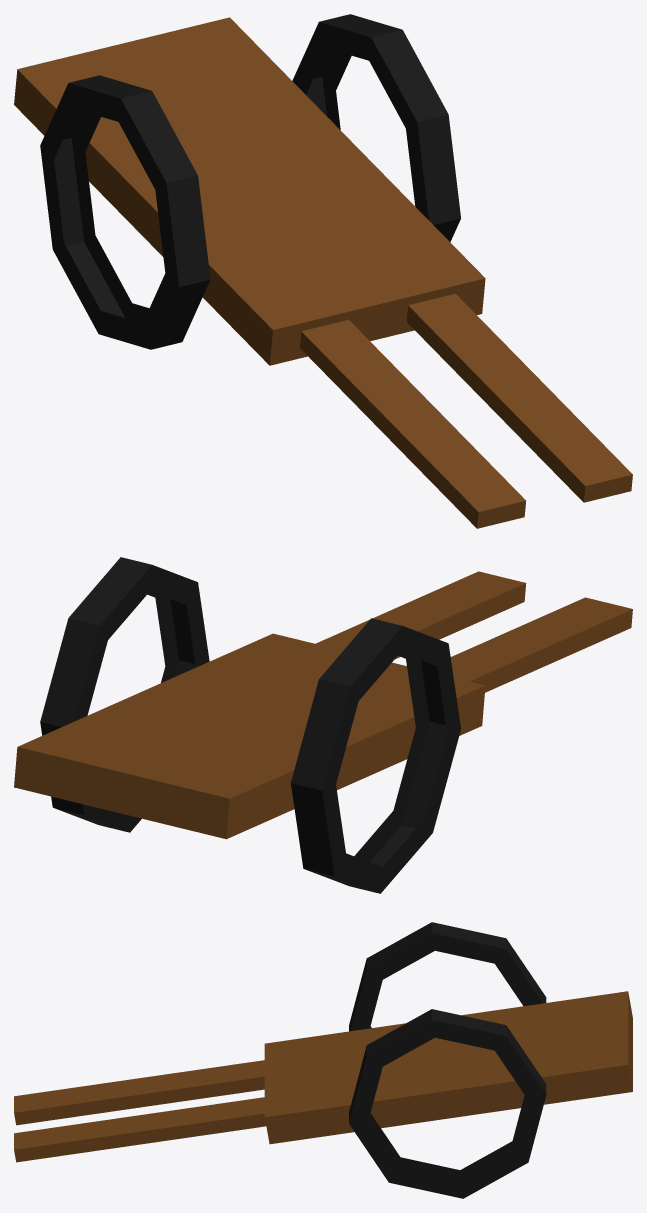
The model's file is canon_holder.fbx.
3 renders of one model, top to bottom at view 1: azimuth 30°, elevation 25°; view 2: azimuth 150°, elevation 25°; view 3: azimuth 270°, elevation 25°, orthographic. The views are drawn at different scales.
Parts seen in each view (by area): view 1: Canon Holder; view 2: Canon Holder; view 3: Canon Holder.
Part boxes in pixels (left/top/right/bottom): Canon Holder: left=14, top=14, right=632, bottom=528; Canon Holder: left=14, top=557, right=632, bottom=893; Canon Holder: left=14, top=922, right=632, bottom=1198.
Size of the model in its own units: 231 by 198 by 619.
